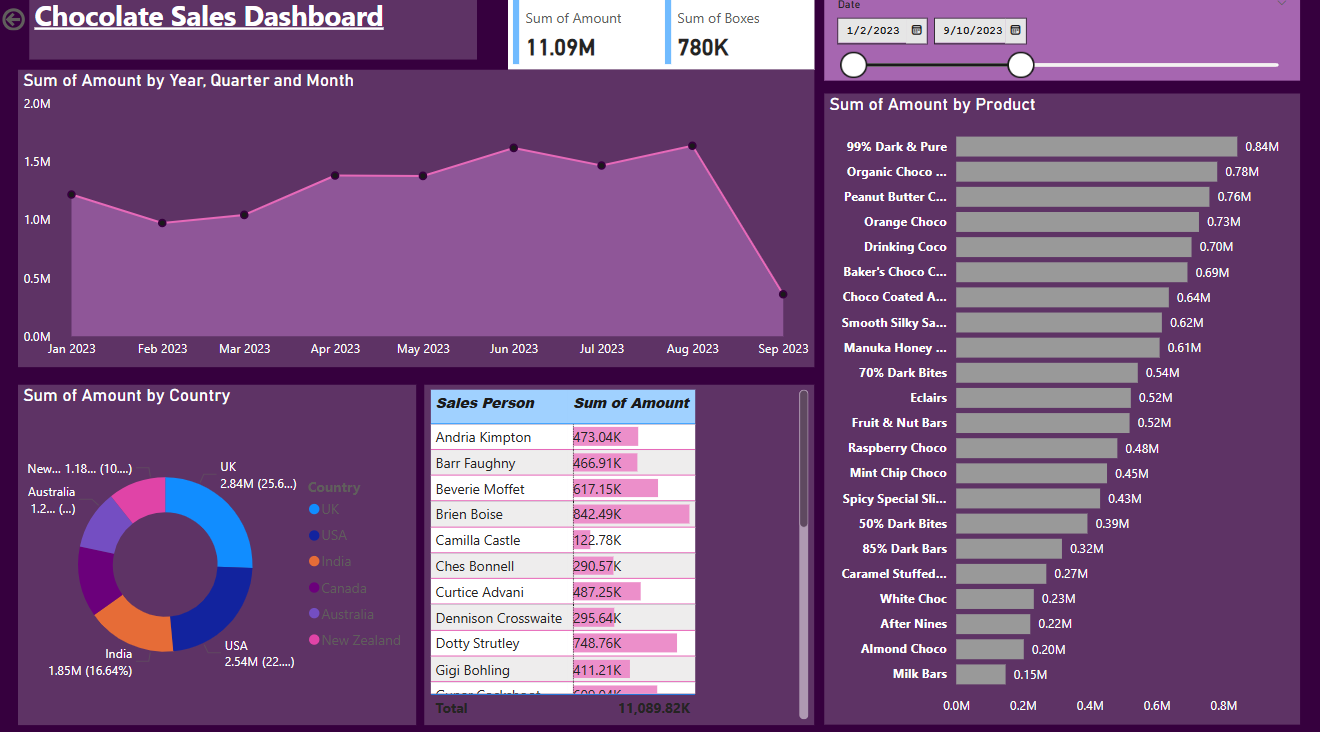

This screenshot's page, from the dashboard's own definition file:
{"tool":"powerbi","page":{"name":"Page 2","canvas":[1280,720],"ordinal":1},"visuals":[{"type":"lineChart","fields":{"Category":["data.Date.Variation.Date Hierarchy.Year","data.Date.Variation.Date Hierarchy.Quarter","data.Date.Variation.Date Hierarchy.Month","data.Date.Variation.Date Hierarchy.Day"],"Y":["data.Amount"]},"box":[19.2,76.8,771.2,288.2],"z":0},{"type":"donutChart","fields":{"Category":["data.Country"],"Y":["data.Amount"]},"box":[19.2,381.5,385.6,329.3],"z":1000},{"type":"tableEx","fields":{"Values":["data.Sales Person","data.Amount"]},"box":[413,381.5,377.4,329.3],"z":2000},{"type":"barChart","fields":{"Y":["data.Amount"],"Category":["data.Product"]},"box":[800.1,99.3,461.2,611.3],"z":3000},{"type":"cardVisual","fields":{"Data":["data.Amount","data.Boxes"]},"box":[493.9,0,296.6,76.3],"z":4000},{"type":"textbox","box":[30.3,0,433.4,66.6],"z":5000},{"type":"actionButton","box":[0,10.9,30.3,32.7],"z":7000},{"type":"slicer","fields":{"Values":["data.Date"]},"box":[800.5,1.1,460.7,85.8],"z":8000}]}

Visuals, with their boxes in screenshot pixels (x1, y1, x2, y2), scaled from the page's 1280x720 canvas onto the 1320x732 screenshot:
lineChart - data.Date.Variation.Date Hierarchy.Year x data.Date.Variation.Date Hierarchy.Quarter: <bbox>20, 78, 815, 371</bbox>
donutChart - data.Country x data.Amount: <bbox>20, 388, 417, 723</bbox>
tableEx - data.Sales Person x data.Amount: <bbox>426, 388, 815, 723</bbox>
barChart - data.Amount x data.Product: <bbox>825, 101, 1301, 722</bbox>
cardVisual - data.Amount x data.Boxes: <bbox>509, 0, 815, 78</bbox>
textbox: <bbox>31, 0, 478, 68</bbox>
actionButton: <bbox>0, 11, 31, 44</bbox>
slicer - data.Date: <bbox>826, 1, 1301, 88</bbox>
